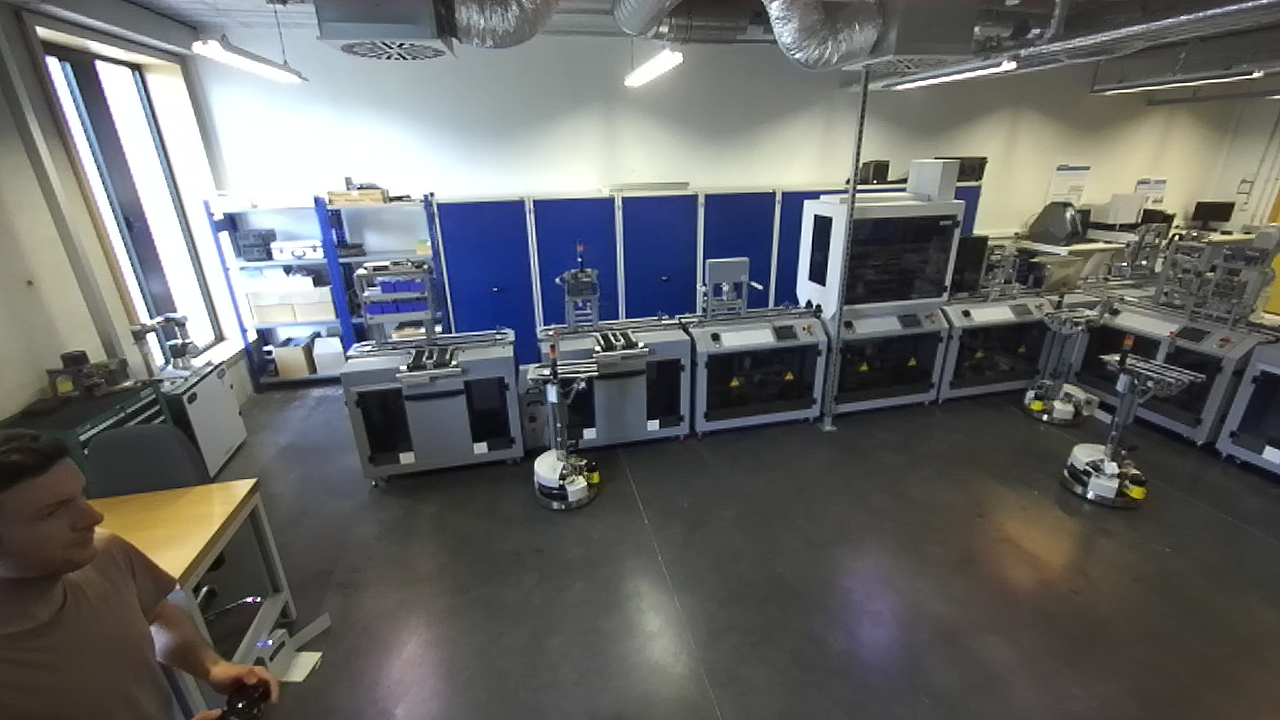AMR: (1060, 331, 1196, 526), (520, 328, 604, 511), (1027, 275, 1115, 426)
Human: (1, 425, 284, 720)
